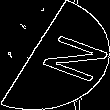N_NW: (13, 26, 97, 84)
